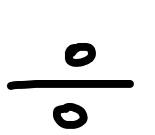div: (10, 42, 134, 127)
